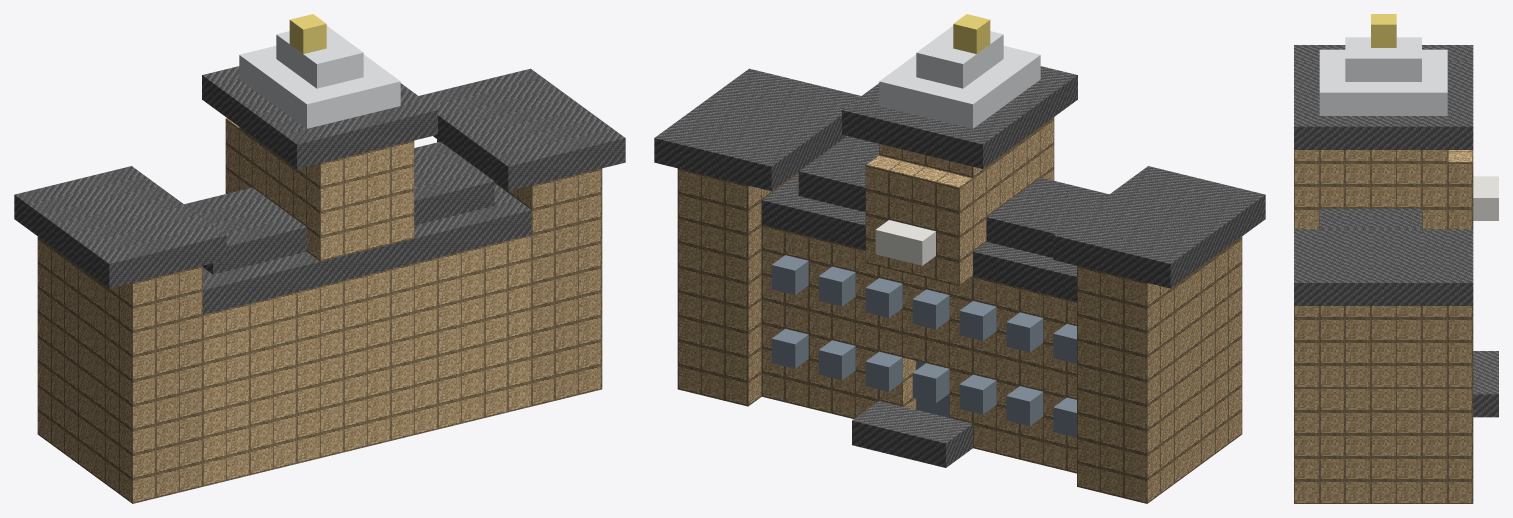
The model's file is universitaet.glb.
3 renders of one model, left to right at view 1: azimuth 30°, elevation 25°; view 2: azimuth 150°, elevation 25°; view 3: azimuth 270°, elevation 25°, orthographic. The views are drawn at different scales.
Parts seen in each view (by area): view 1: universitaet; view 2: universitaet; view 3: universitaet.
Boxes of the visible parts, x1,y1,x2,y2 form: universitaet: (14,14,625,503); universitaet: (654,14,1265,503); universitaet: (1294,14,1498,503).
Size of the model in its own units: 22 by 16 by 8.
1 material, 1 textured.
